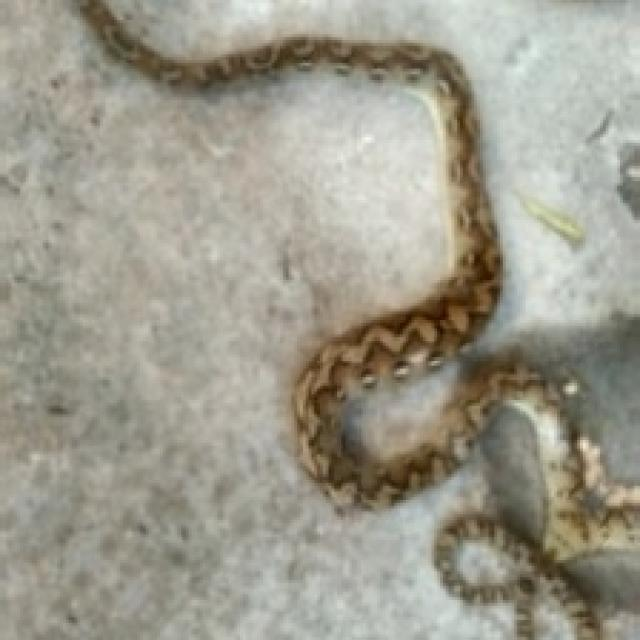reticulated python: (80, 0, 637, 637)
